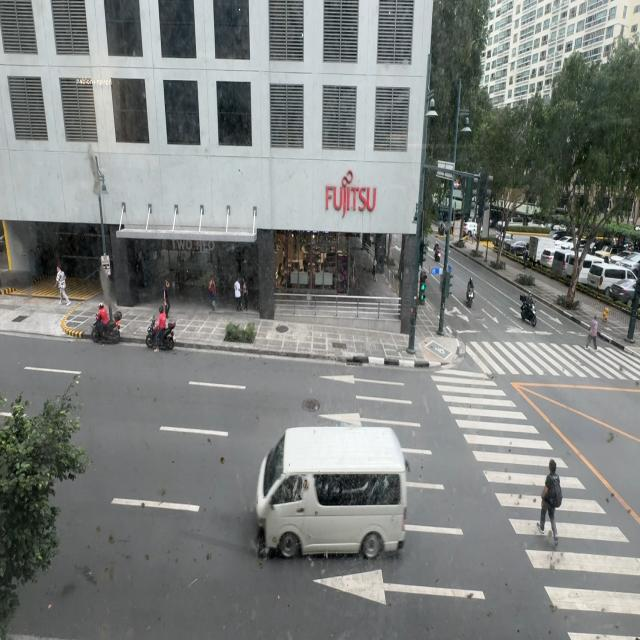crossing: (533, 458, 561, 546), (586, 315, 598, 351)
